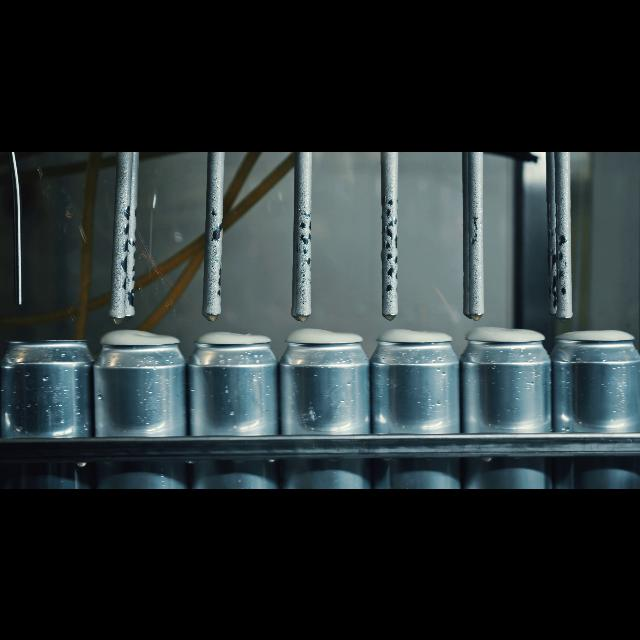empty: (0, 334, 98, 488)
full: (462, 326, 556, 488), (370, 324, 460, 488), (99, 324, 188, 488), (278, 328, 368, 488), (189, 326, 275, 488), (556, 329, 640, 488)
